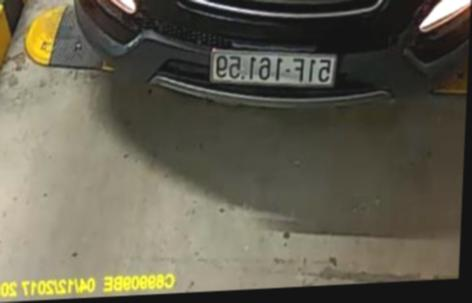License_Plate: (202, 41, 344, 93)
